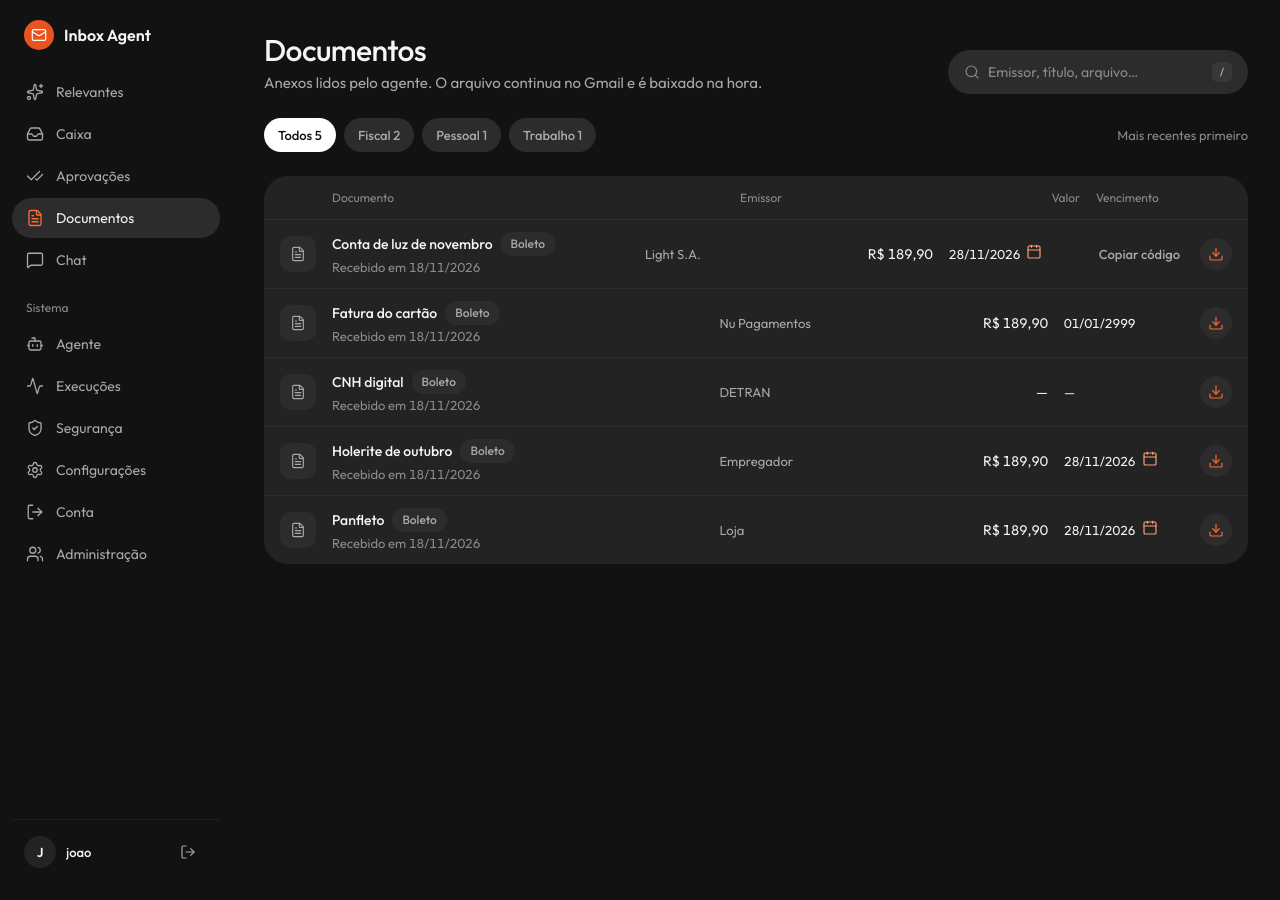
Test: class_chips_show_counts_and_filter_the_list
Expected: the button "Todos 5" is shown, [264, 118, 336, 152]
Expected: the button "Pessoal 1" is shown, [422, 118, 501, 152]
Click the button "Fiscal 2". click: [379, 135]
box: [344, 118, 414, 152]
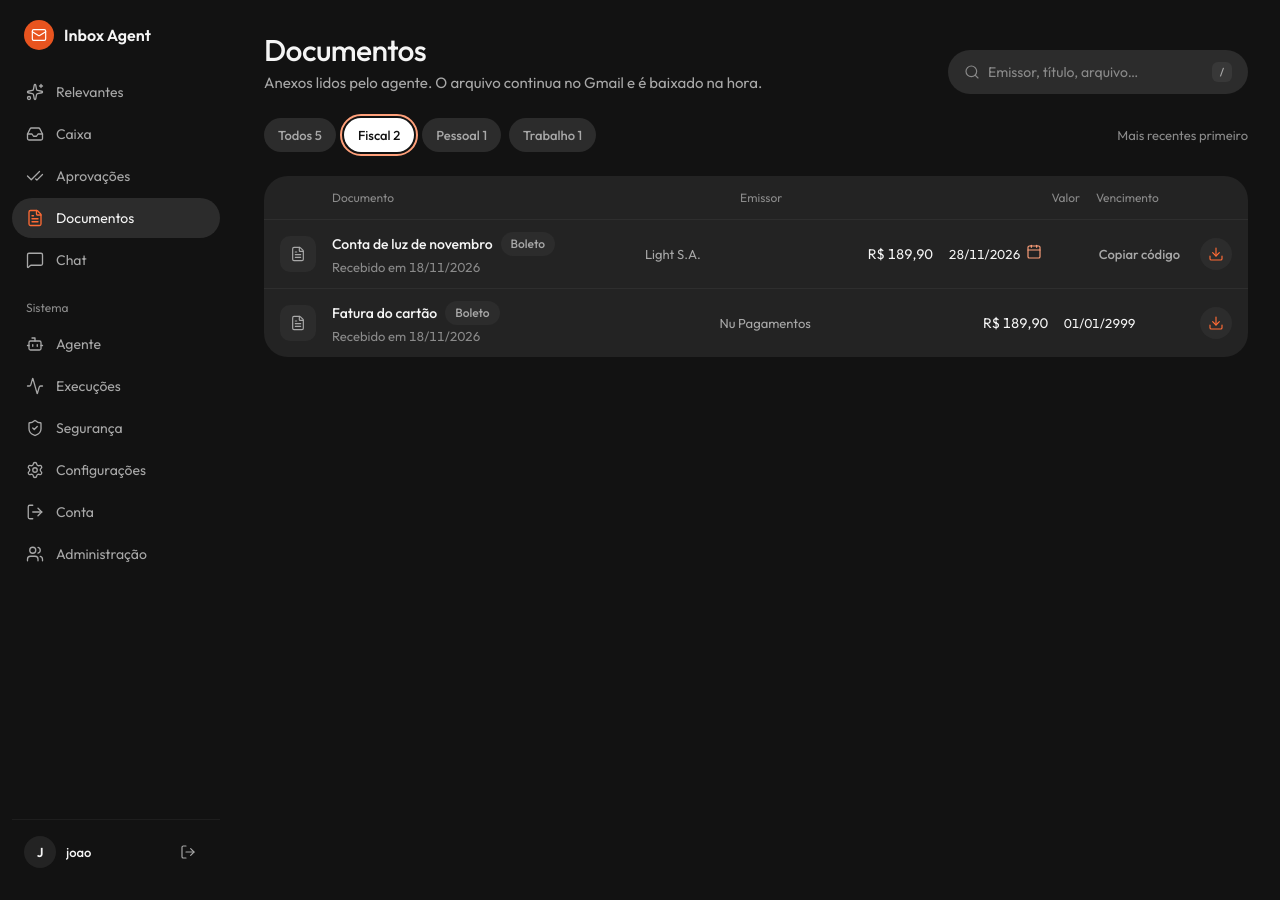
Result: the number of list items is 2 at [264, 220, 1248, 288]; [264, 288, 1248, 357]
Type "light" into the search field named "Buscar documentos". click: [1096, 72]
box: [988, 62, 1204, 82]
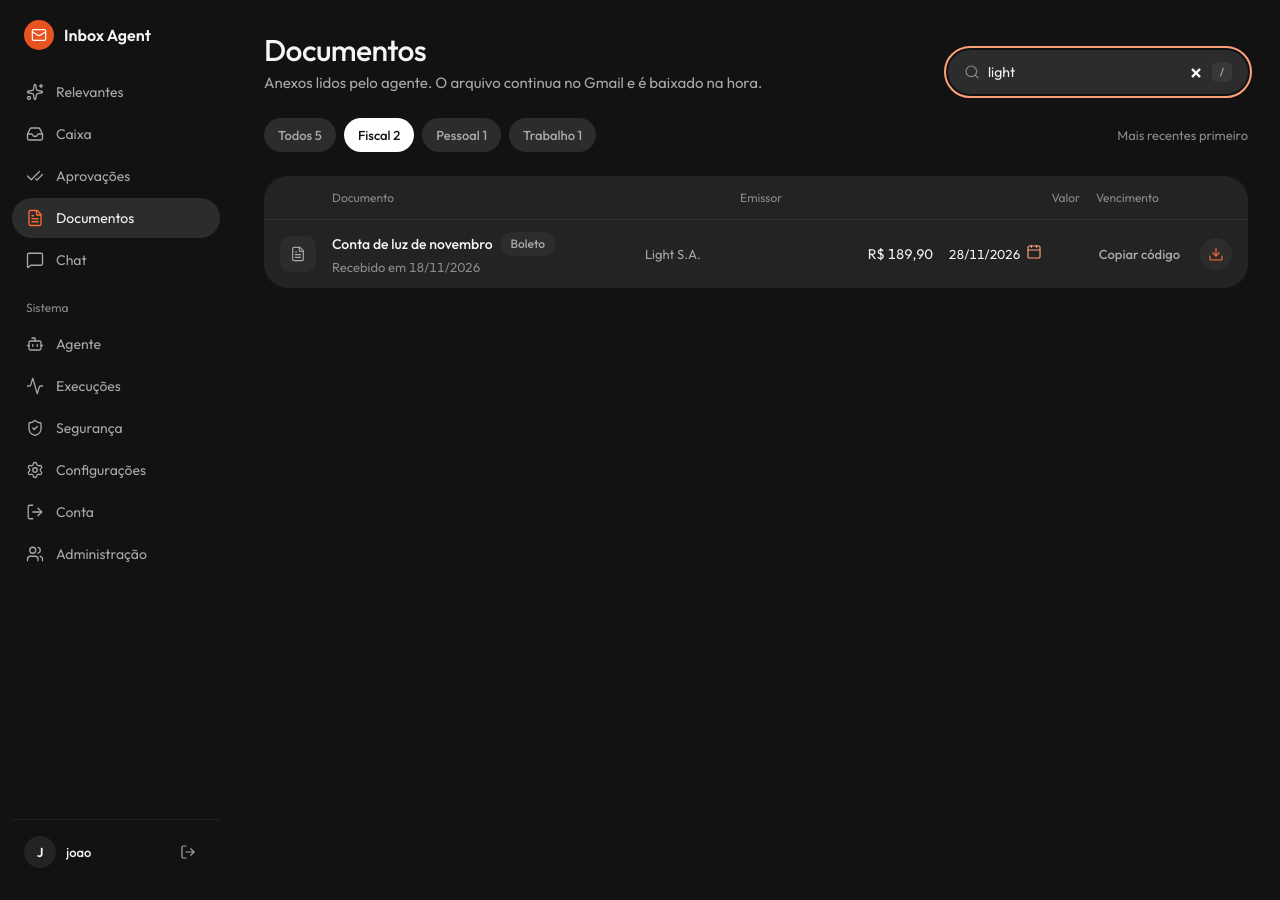
Expected: the list item shows "Conta de luz de novembro", [332, 235, 493, 253]
Result: the number of list items is 1 at [264, 220, 1248, 288]
